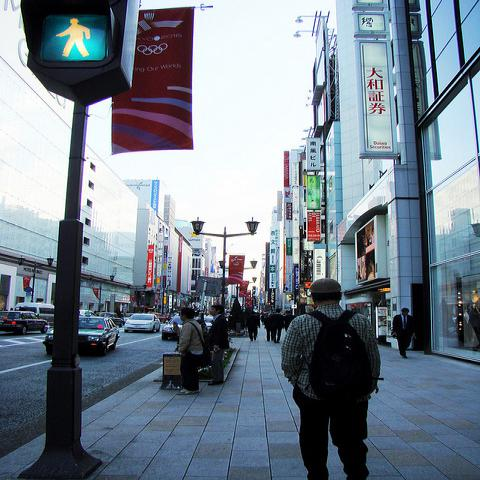car: (42, 316, 120, 357), (0, 311, 49, 335), (124, 314, 160, 334), (161, 316, 183, 342), (96, 312, 123, 325), (204, 316, 214, 329)
truck: (12, 301, 56, 322)
